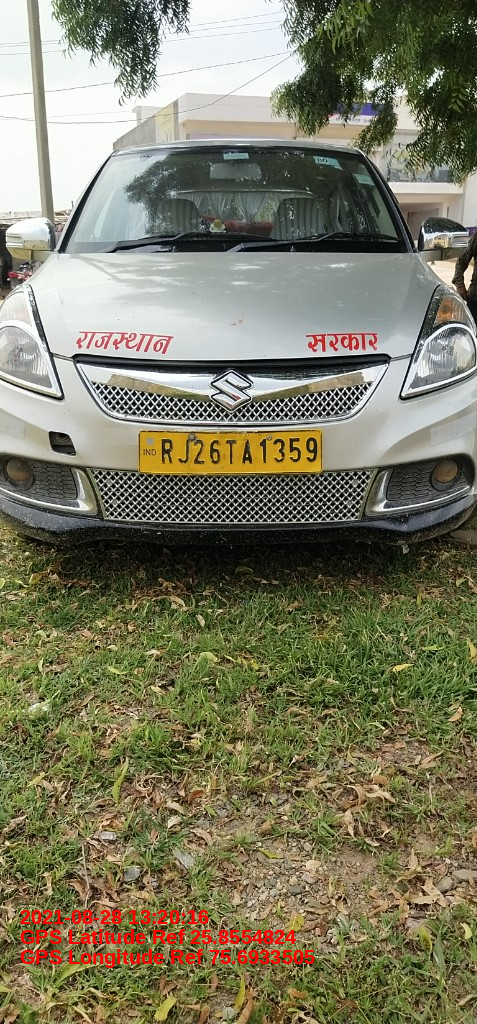Broken: (43, 425, 83, 461)
